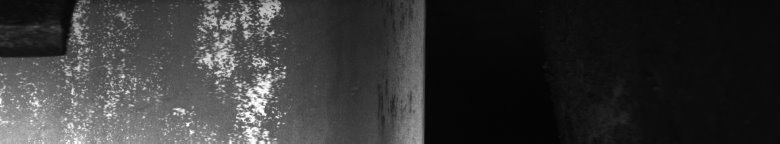kb: (4, 4, 288, 136)
